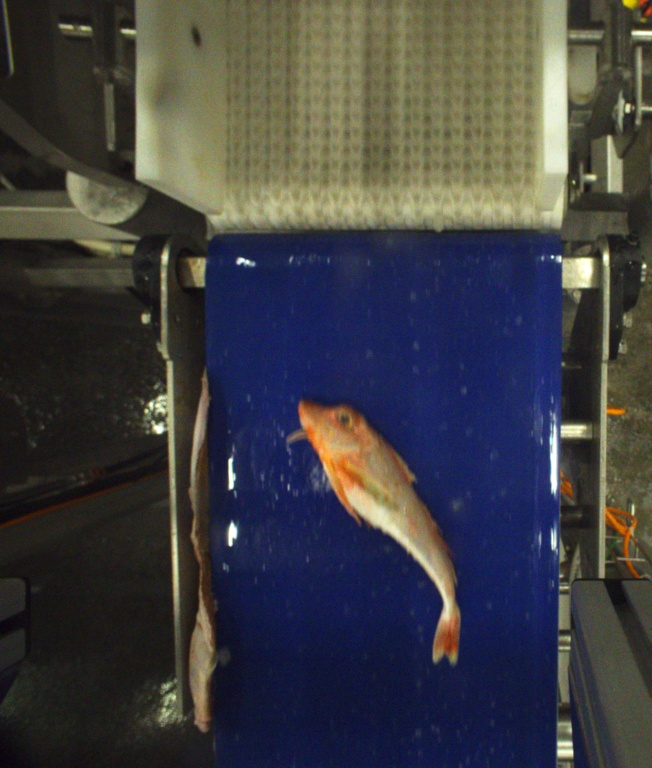GUU: (289, 401, 462, 665)
